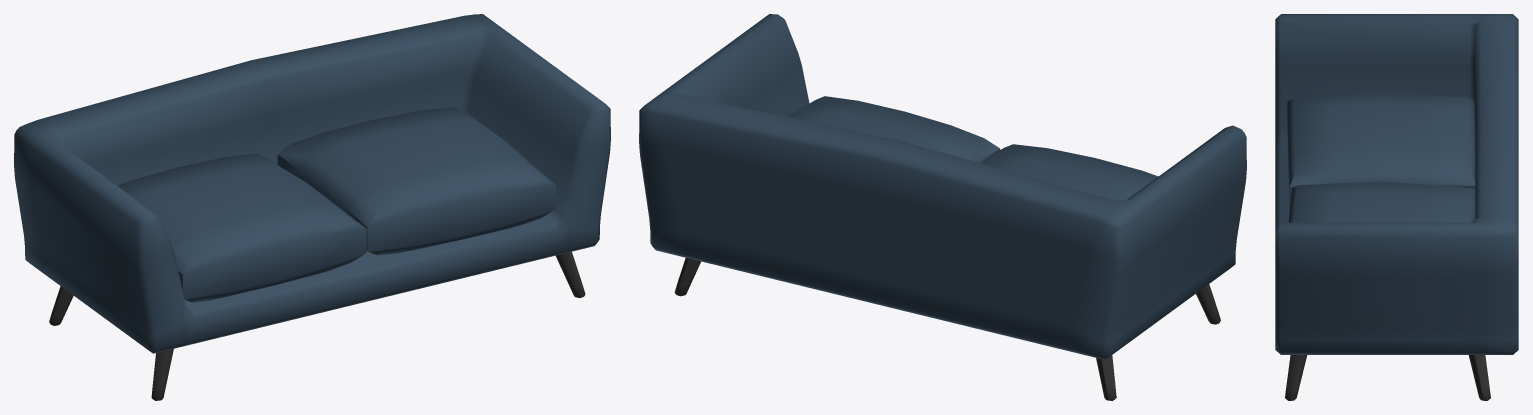
The model's file is couch_medium1.glb.
The picture shows the model from 3 angles, left to right: view 1: azimuth 30°, elevation 25°; view 2: azimuth 150°, elevation 25°; view 3: azimuth 270°, elevation 25°; orthographic projection. The views are drawn at different scales.
Parts seen in each view (by area): view 1: Couch_Medium1; view 2: Couch_Medium1; view 3: Couch_Medium1.
Part boxes in pixels (left/top/right/bottom): Couch_Medium1: left=14, top=14, right=610, bottom=400; Couch_Medium1: left=639, top=14, right=1246, bottom=400; Couch_Medium1: left=1275, top=14, right=1518, bottom=400.
Size of the model in its own units: 4.69 by 1.91 by 2.2.
